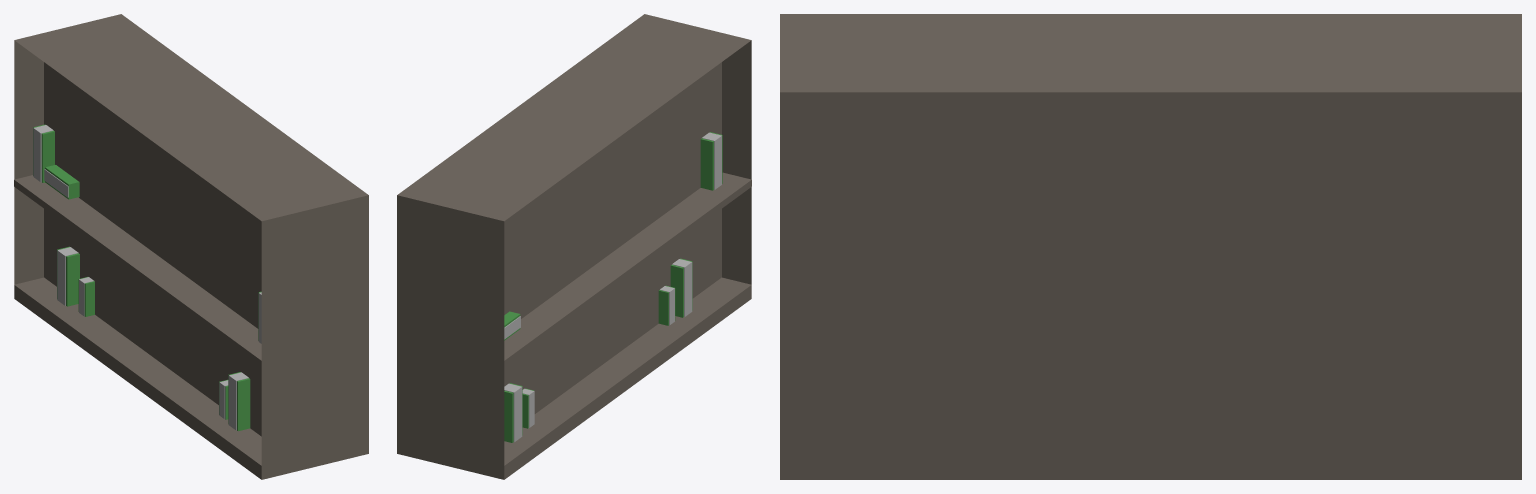
The model's file is Book_shelf.fbx.
3 renders of one model, left to right at view 1: azimuth 30°, elevation 25°; view 2: azimuth 150°, elevation 25°; view 3: azimuth 270°, elevation 25°, orthographic. The views are drawn at different scales.
Parts seen in each view (by area): view 1: Cube.092; view 2: Cube.092; view 3: Cube.092.
Part boxes in pixels (x1=…): Cube.092: x1=14, y1=14, x2=368, y2=479; Cube.092: x1=397, y1=14, x2=751, y2=479; Cube.092: x1=780, y1=14, x2=1521, y2=479.
Size of the model in its own units: 124 by 286 by 496.
